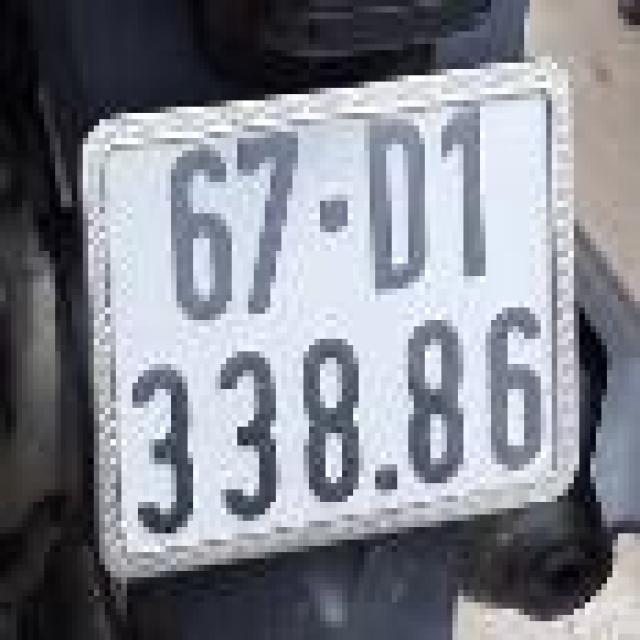1: (428, 100, 504, 282)
3: (127, 361, 204, 536), (215, 345, 287, 521)
6: (160, 138, 237, 320), (483, 304, 554, 474)
7: (232, 123, 303, 330)
8: (398, 314, 474, 483), (295, 336, 367, 499)
D: (353, 113, 430, 295)
